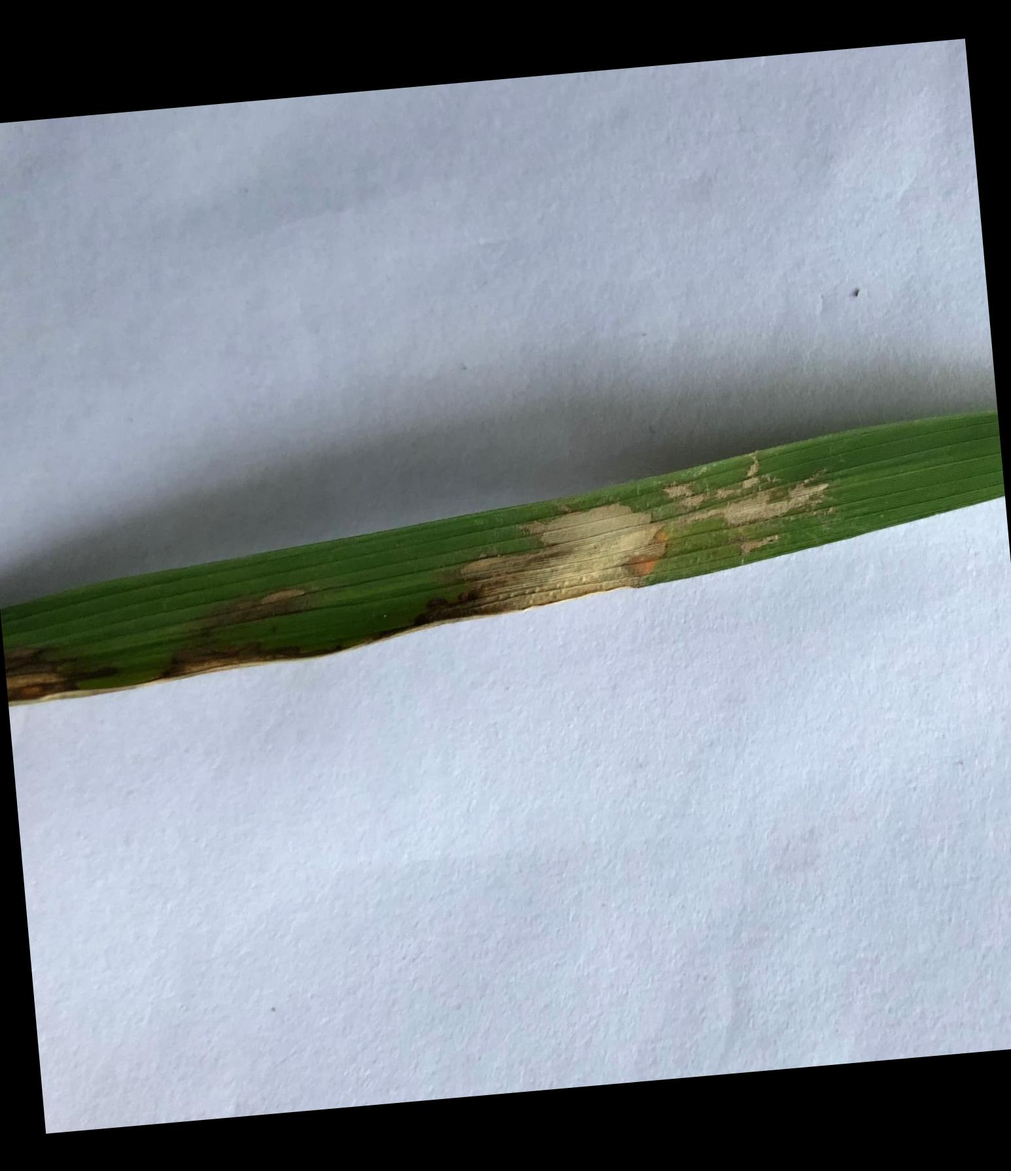Leaf Blight: (372, 500, 666, 645), (5, 644, 313, 706), (663, 451, 828, 526), (245, 587, 322, 605), (739, 534, 785, 553)
